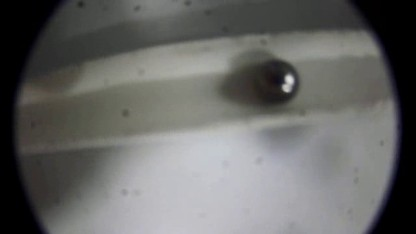gangzhu: (256, 59, 303, 104)
